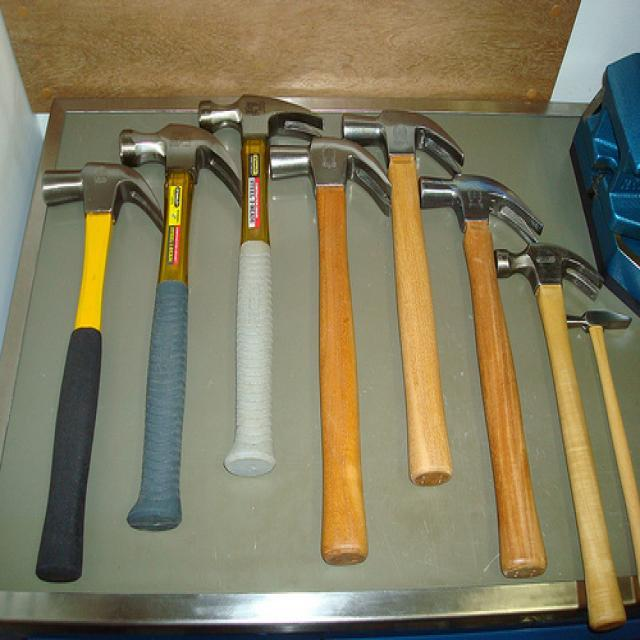hammer: (262, 130, 398, 576), (24, 154, 163, 590), (414, 158, 552, 576), (117, 112, 246, 556), (333, 89, 468, 508), (192, 83, 325, 505), (488, 235, 612, 624), (560, 305, 640, 584)
